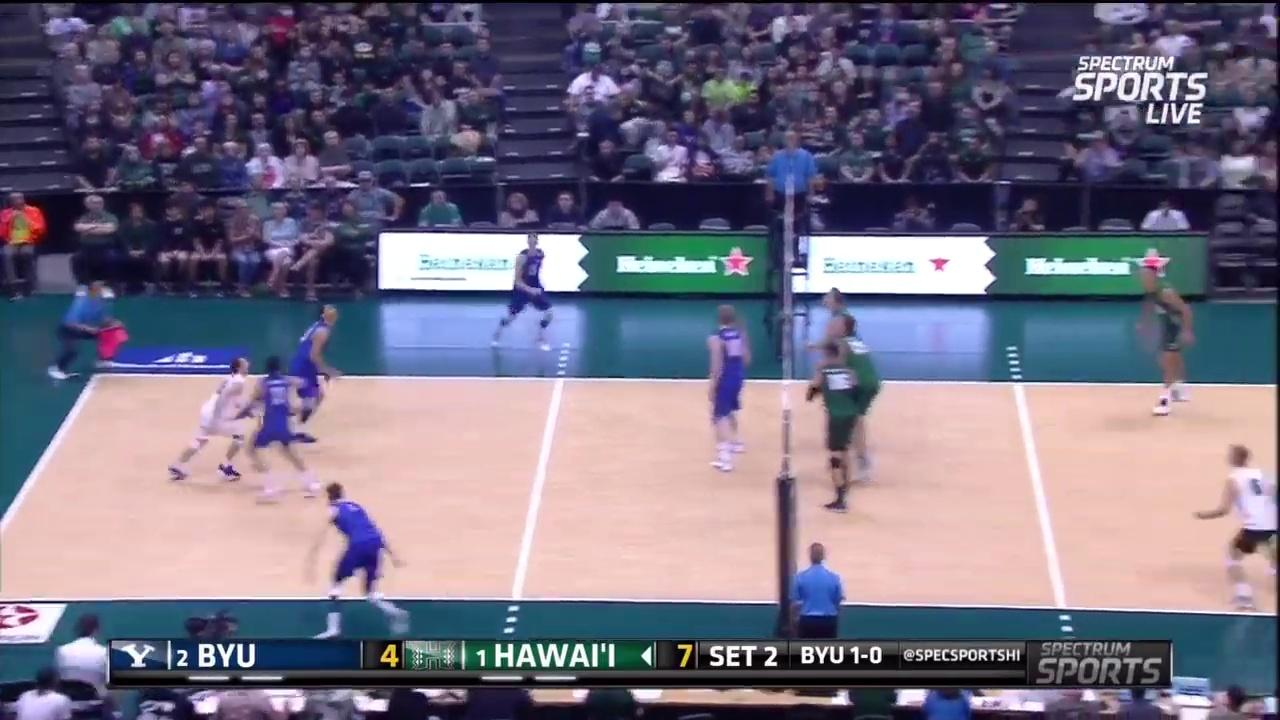player: (1194, 440, 1279, 615), (312, 484, 411, 634), (167, 358, 262, 483), (248, 356, 320, 501), (810, 342, 869, 514), (1128, 265, 1193, 414), (823, 317, 881, 482), (704, 303, 752, 468), (490, 233, 555, 351), (819, 284, 862, 456), (293, 308, 343, 442)
refree: (47, 272, 126, 385), (776, 536, 852, 641), (762, 126, 816, 261)
